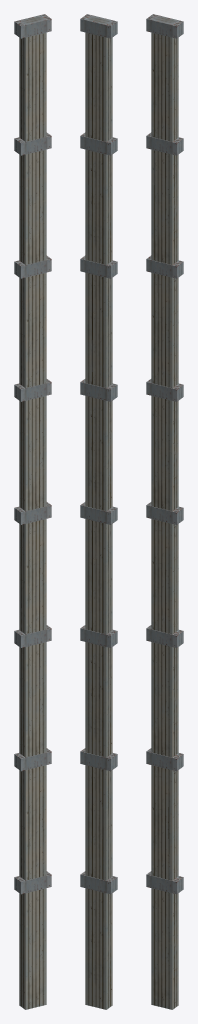
File: Cable_01a_snaps011.fbx
3 views of the same model, side by side, from view 1: azimuth 30°, elevation 25°; view 2: azimuth 150°, elevation 25°; view 3: azimuth 330°, elevation 25° (orthographic).
Parts seen in each view (by area): view 1: Cable_01a_snaps011_LOD0; view 2: Cable_01a_snaps011_LOD0; view 3: Cable_01a_snaps011_LOD0.
Part boxes in pixels (x1=…): Cable_01a_snaps011_LOD0: x1=14, y1=14, x2=51, y2=1009; Cable_01a_snaps011_LOD0: x1=80, y1=14, x2=117, y2=1009; Cable_01a_snaps011_LOD0: x1=146, y1=14, x2=183, y2=1009.
Size of what is drawn, in the model's own units: 13.01 by 400 by 4.99.
